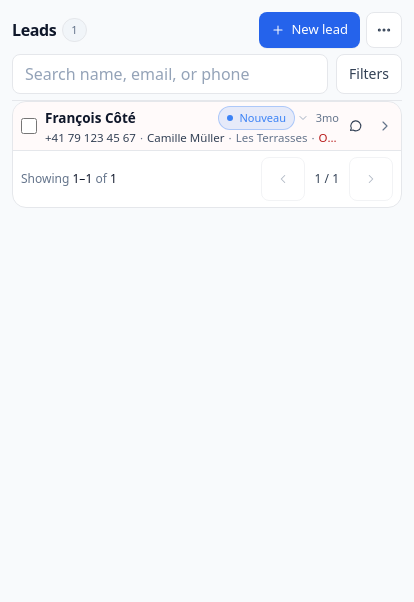
Test case: LeadsPanel table › folds filters behind a mobile Filters toggle that counts active filters
Expected: the field with placeholder "Search name, email, or phone" is shown, top-left (12, 54), bottom-right (328, 94)
Click the button "Filters" at point(369, 74), box top-left (336, 54), bottom-right (402, 94)
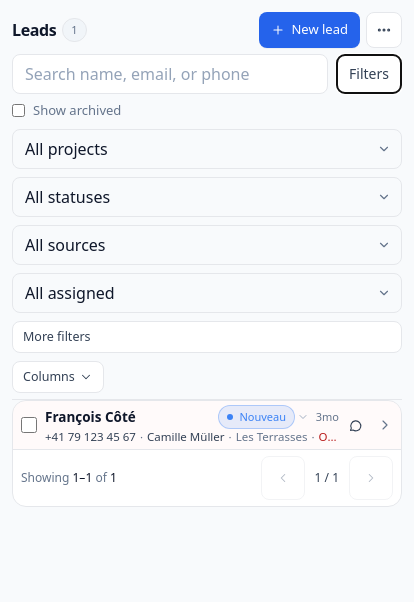
Expected: the button "Filters" is expanded, top-left (336, 54), bottom-right (402, 94)
Click the checkbox labelled "Show archived" at point(18, 111), box top-left (12, 104), bottom-right (25, 117)
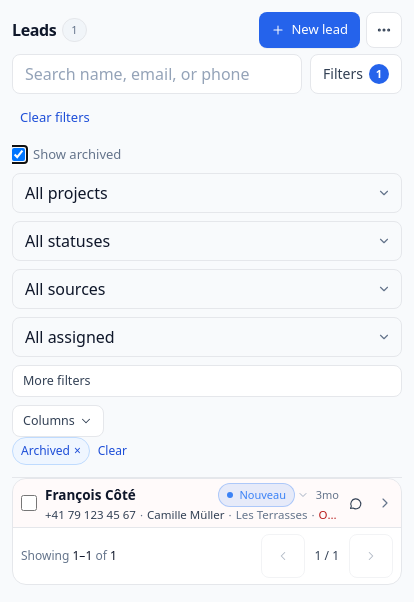
Expected: the button with aria-label "Filters, 1 active" is shown, top-left (310, 54), bottom-right (402, 94)
